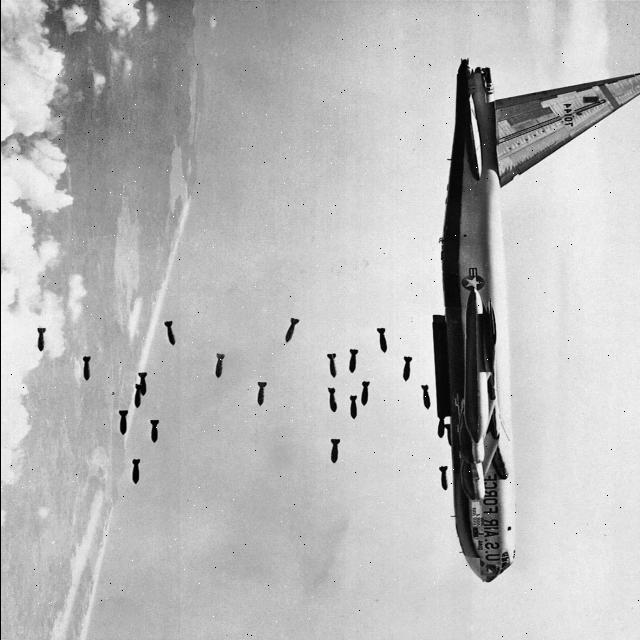B1: (416, 28, 634, 610)
